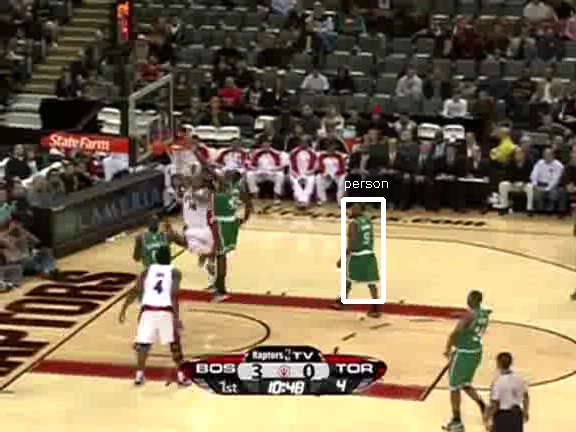person: (347, 209, 381, 290), (346, 209, 380, 290), (348, 209, 382, 290), (347, 208, 381, 289), (347, 210, 381, 291)
target_negative: (63, 88, 386, 340), (20, 121, 271, 414), (184, 252, 451, 420), (302, 367, 558, 429), (400, 11, 508, 148), (178, 307, 223, 426)
